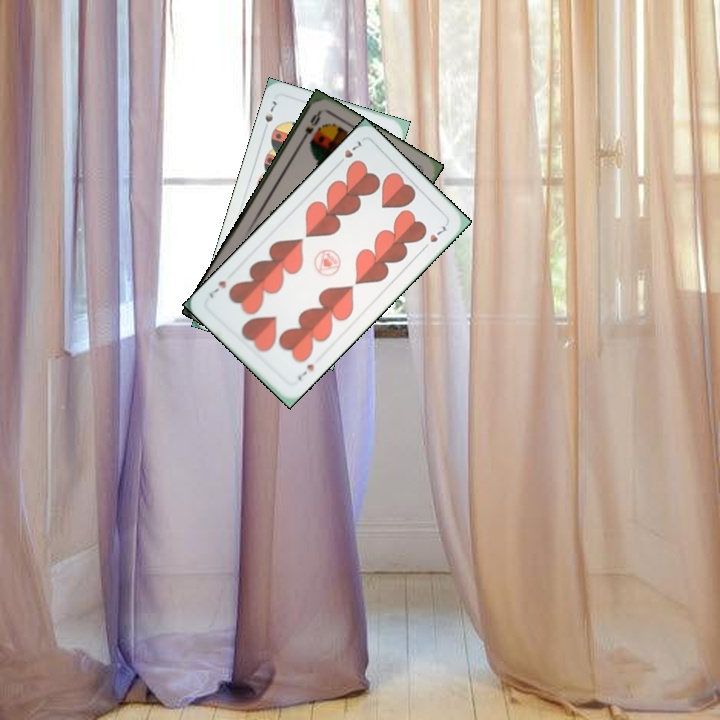H7: (333, 136, 364, 169), (293, 360, 317, 383)
S7: (259, 96, 279, 134)
SO: (297, 108, 323, 146)
